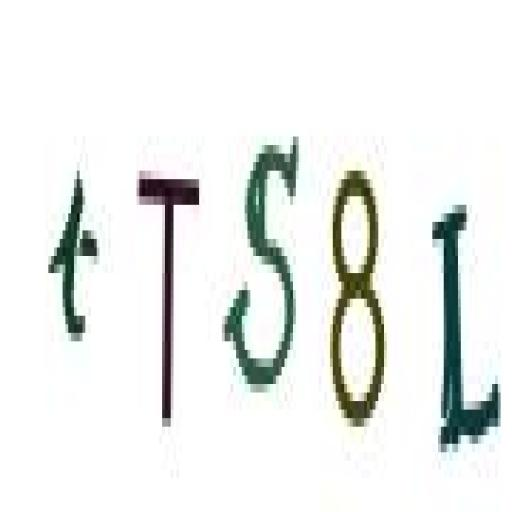8: (326, 147, 395, 447)
L: (426, 179, 505, 467)
T: (132, 153, 204, 444)
s: (221, 131, 300, 406)
t: (46, 146, 101, 355)
